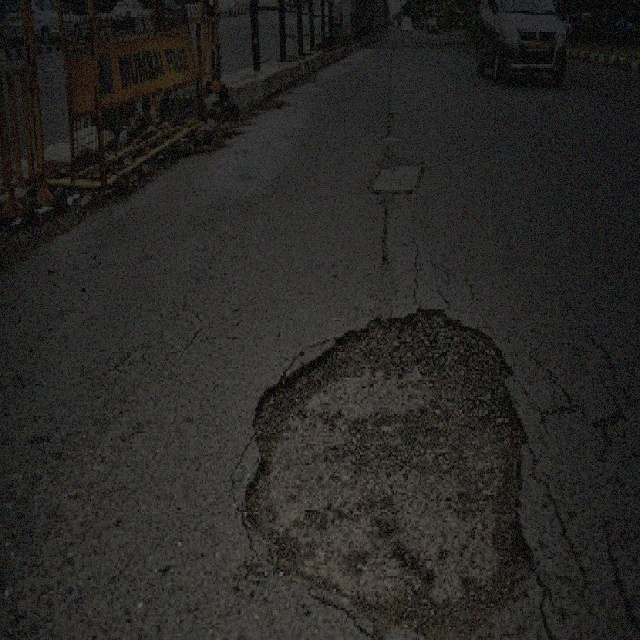pothole: (237, 296, 534, 638)
